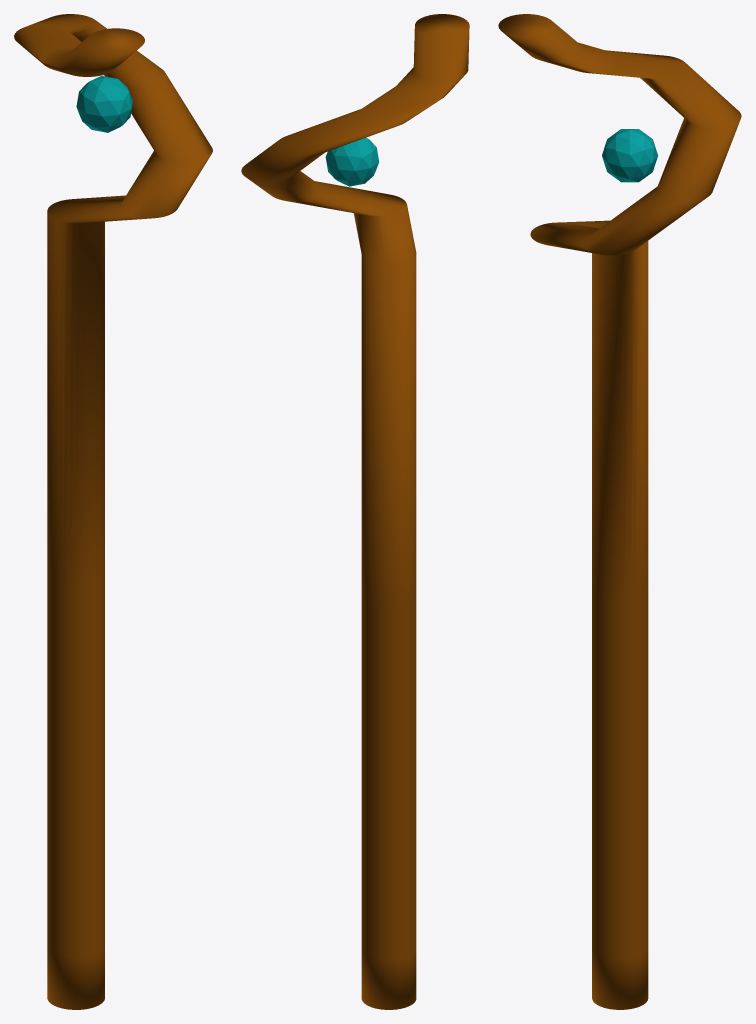
Rendered from STAFF4.fbx.
3 renders of one model, left to right at view 1: azimuth 30°, elevation 25°; view 2: azimuth 150°, elevation 25°; view 3: azimuth 270°, elevation 25°, orthographic. The views are drawn at different scales.
Parts seen in each view (by area): view 1: Cylinder, Icosphere; view 2: Cylinder, Icosphere; view 3: Cylinder, Icosphere.
Part boxes in pixels (x1,y1,x2,y2): Cylinder: [14, 14, 212, 1009]; Icosphere: [76, 75, 132, 132]; Cylinder: [241, 14, 469, 1009]; Icosphere: [325, 137, 379, 186]; Cylinder: [498, 14, 741, 1009]; Icosphere: [602, 129, 658, 182].
Size of the model in its own units: 699 by 3790 by 863.
